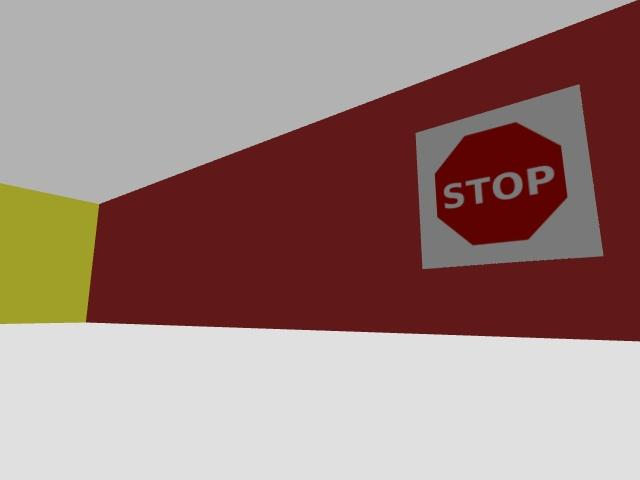stopsign: (418, 85, 602, 268)
